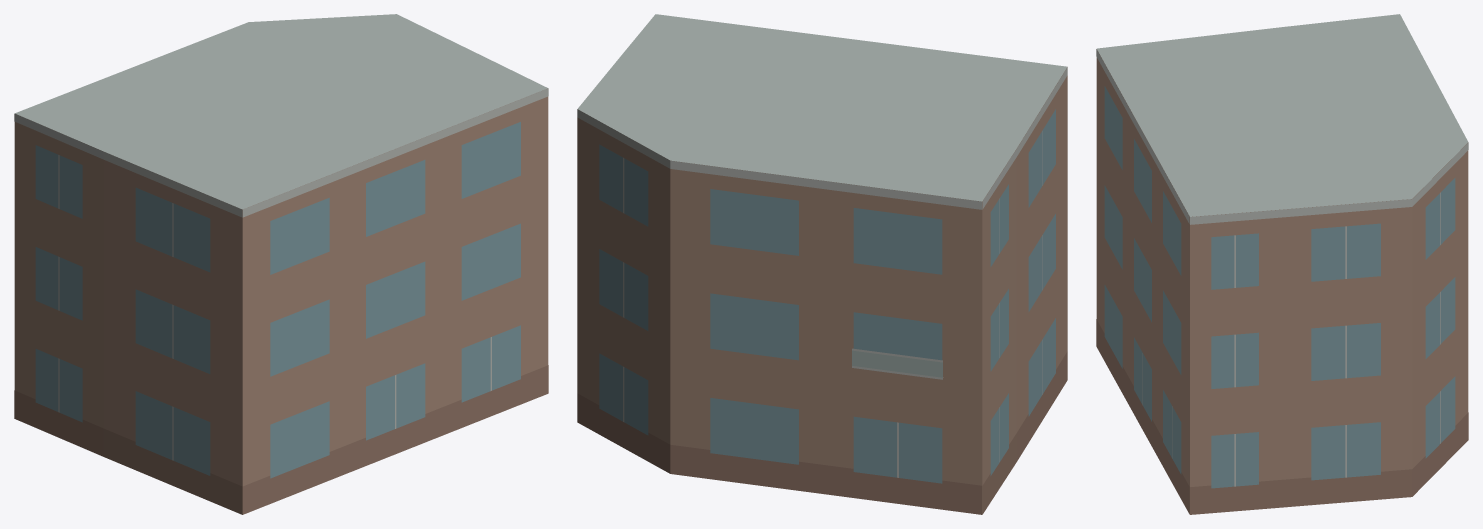
The model's file is survey-upis-32688999.glb.
3 renders of one model, left to right at view 1: azimuth 30°, elevation 25°; view 2: azimuth 150°, elevation 25°; view 3: azimuth 270°, elevation 25°, orthographic. The views are drawn at different scales.
Parts seen in each view (by area): view 1: survey-upis-32688999.tmp; view 2: survey-upis-32688999.tmp; view 3: survey-upis-32688999.tmp.
Boxes of the visible parts, bbox=[...] form: survey-upis-32688999.tmp: bbox=[14, 14, 548, 514]; survey-upis-32688999.tmp: bbox=[577, 14, 1067, 514]; survey-upis-32688999.tmp: bbox=[1096, 14, 1468, 514].
Bounding box in the file's own units: 13.37 × 9.15 × 10.36.
